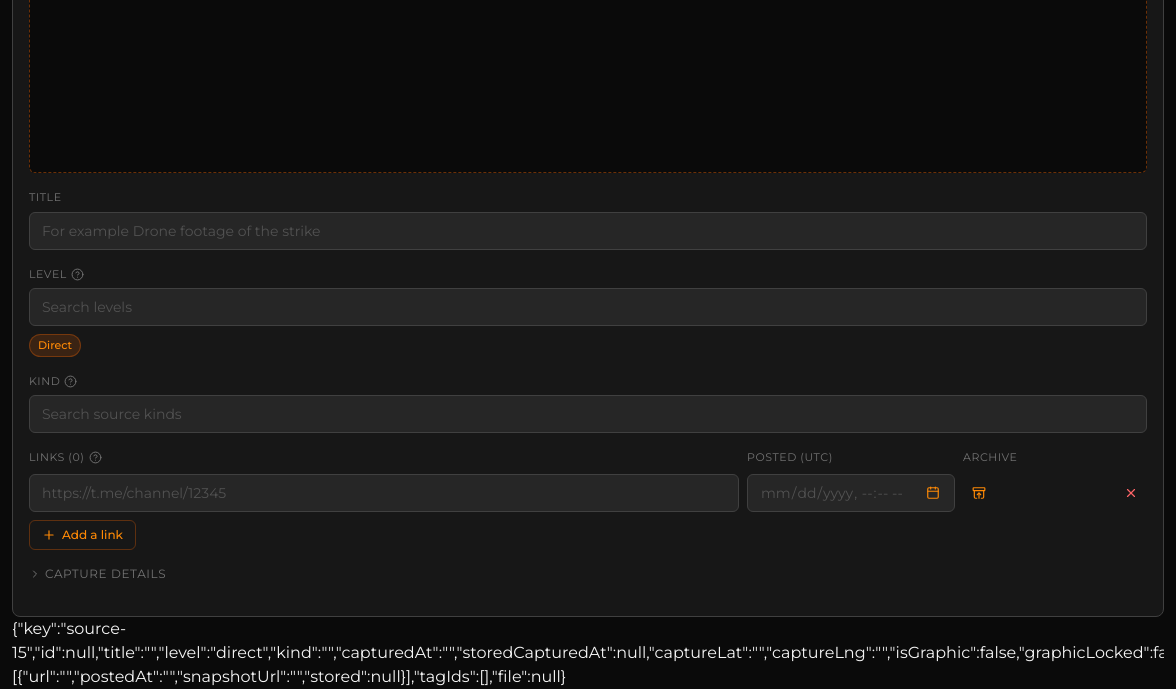
Test case: SourceEditor › keeps the secondary fields under a closed Capture details on a new source
(page scrolled)
Click the button "Capture details".
click(98, 574)  # box x1=29 y1=566 x2=166 y2=582
(page scrolled)
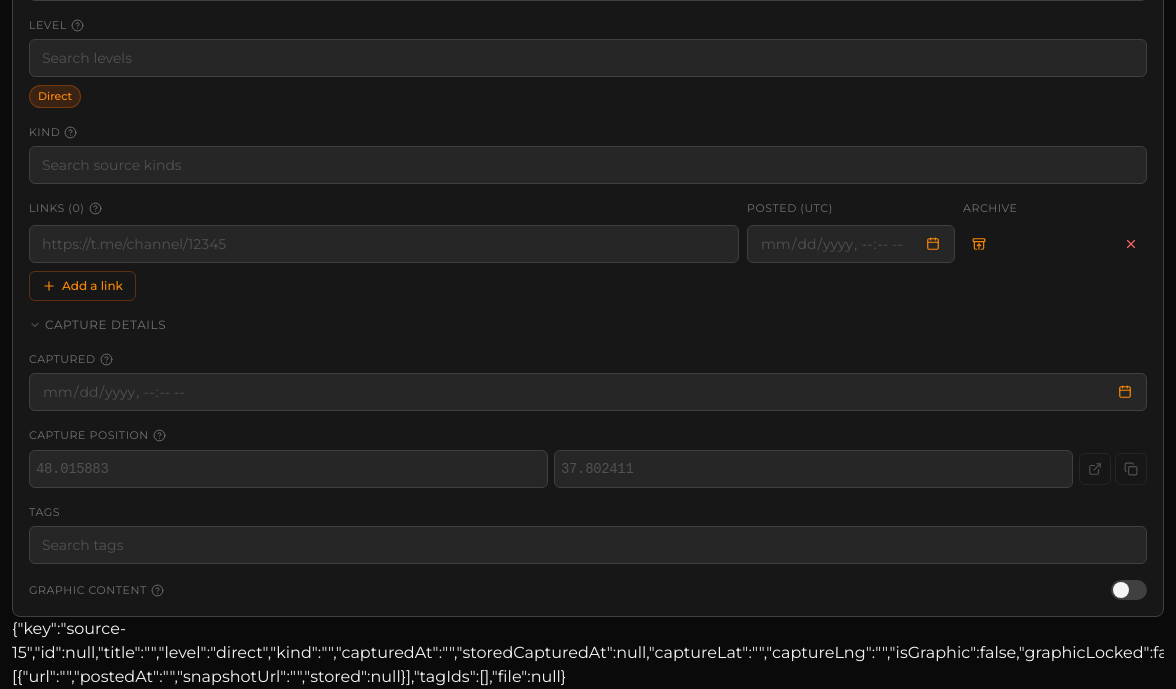
expect the field labelled "Captured" is shown: met, box x1=29 y1=373 x2=1147 y2=411
expect the switch named "Source 1 graphic content" is shown: met, box x1=1111 y1=580 x2=1147 y2=600
